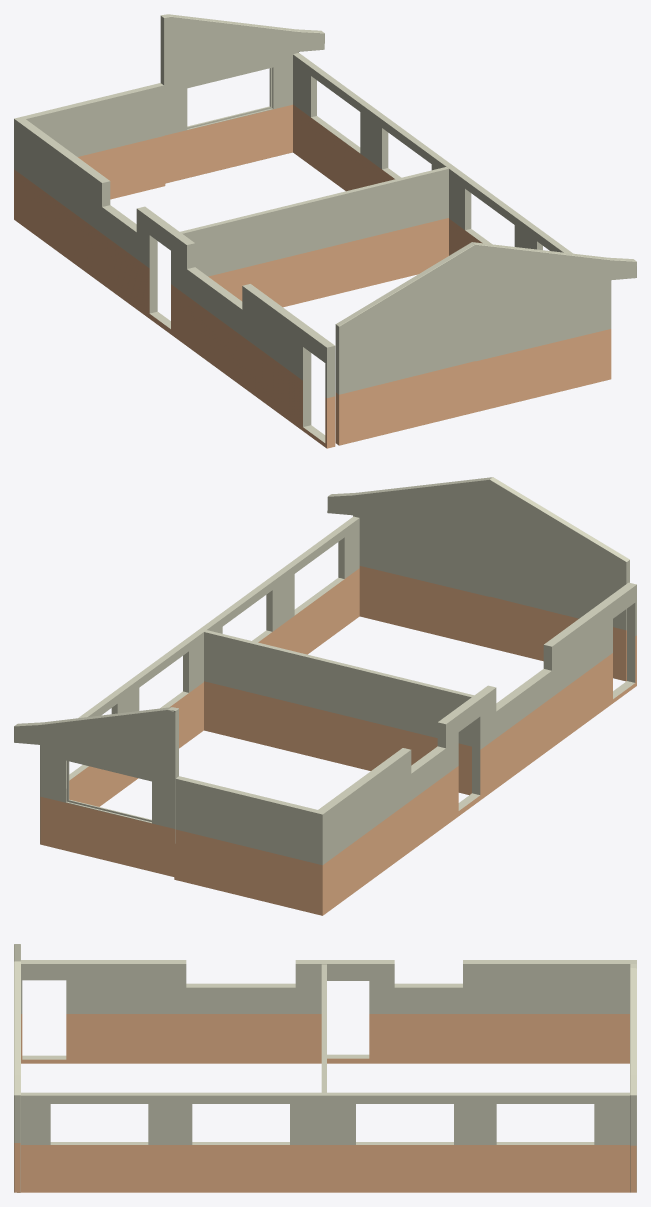
Rendered from plcom1.glb.
The picture shows the model from 3 angles, top to bottom: view 1: azimuth 30°, elevation 25°; view 2: azimuth 150°, elevation 25°; view 3: azimuth 270°, elevation 25°; orthographic projection.
Visible parts, largest first — view 1: Room; view 2: Room; view 3: Room.
Part boxes in pixels (x1=…): Room: x1=14, y1=14, x2=636, y2=448; Room: x1=14, y1=477, x2=636, y2=915; Room: x1=14, y1=944, x2=636, y2=1192.
Size of the model in its own units: 158 by 83.99 by 282.
